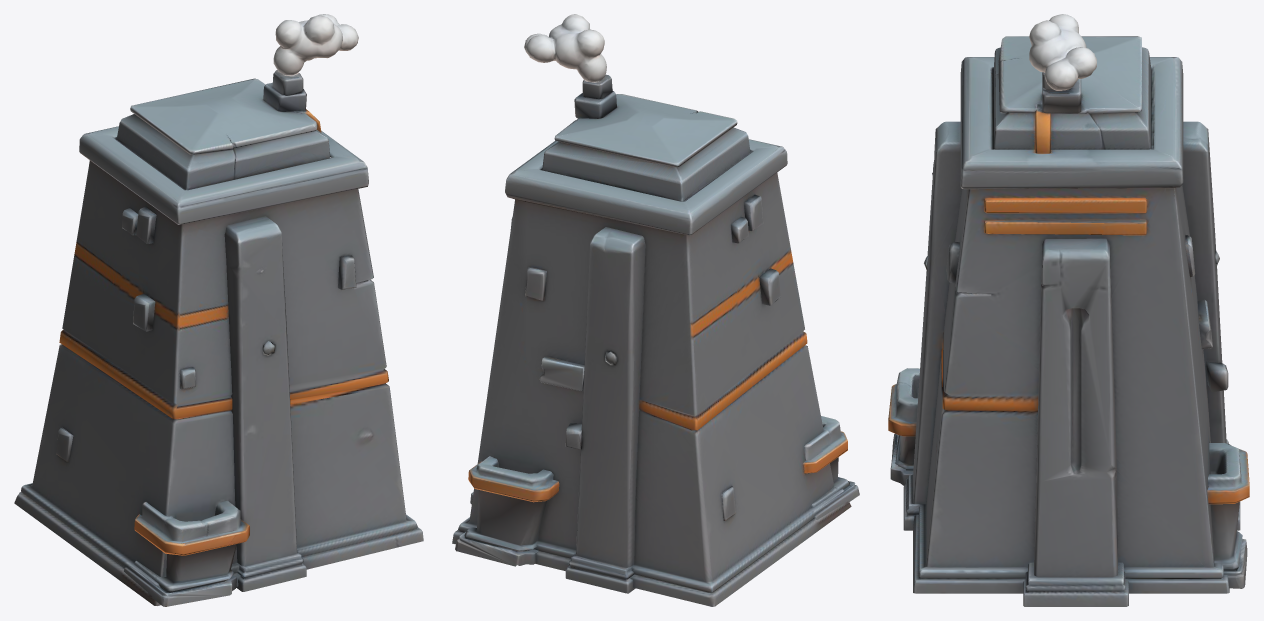
File: selected.glb
The picture shows the model from 3 angles, left to right: view 1: azimuth 30°, elevation 25°; view 2: azimuth 150°, elevation 25°; view 3: azimuth 270°, elevation 25°; orthographic projection. The views are drawn at different scales.
Parts seen in each view (by area): view 1: tripo_node_3ac00cd3-783b-4259-a2cc-7291da215e2b; view 2: tripo_node_3ac00cd3-783b-4259-a2cc-7291da215e2b; view 3: tripo_node_3ac00cd3-783b-4259-a2cc-7291da215e2b.
Boxes of the visible parts, x1=… form: tripo_node_3ac00cd3-783b-4259-a2cc-7291da215e2b: x1=14, y1=14, x2=423, y2=606; tripo_node_3ac00cd3-783b-4259-a2cc-7291da215e2b: x1=452, y1=14, x2=859, y2=606; tripo_node_3ac00cd3-783b-4259-a2cc-7291da215e2b: x1=888, y1=14, x2=1249, y2=606.
Bounding box in the file's own units: 0.627 × 0.998 × 0.5957.
Materials: 1 (1 with a texture image).
